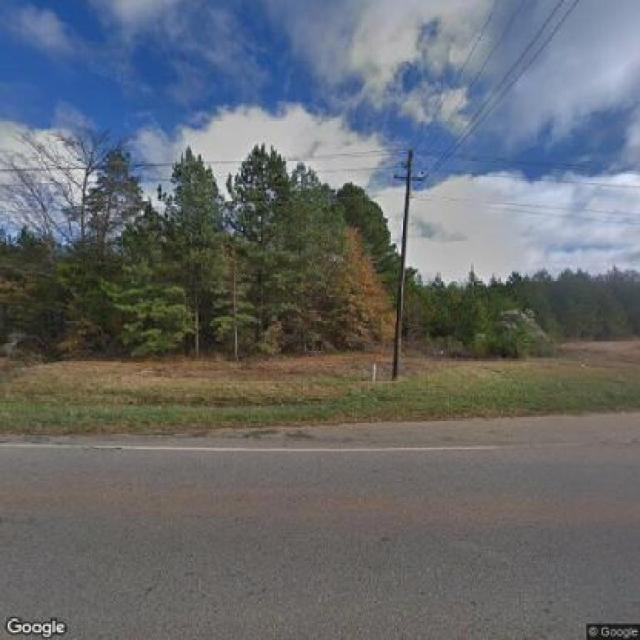pole: (386, 148, 432, 378)
